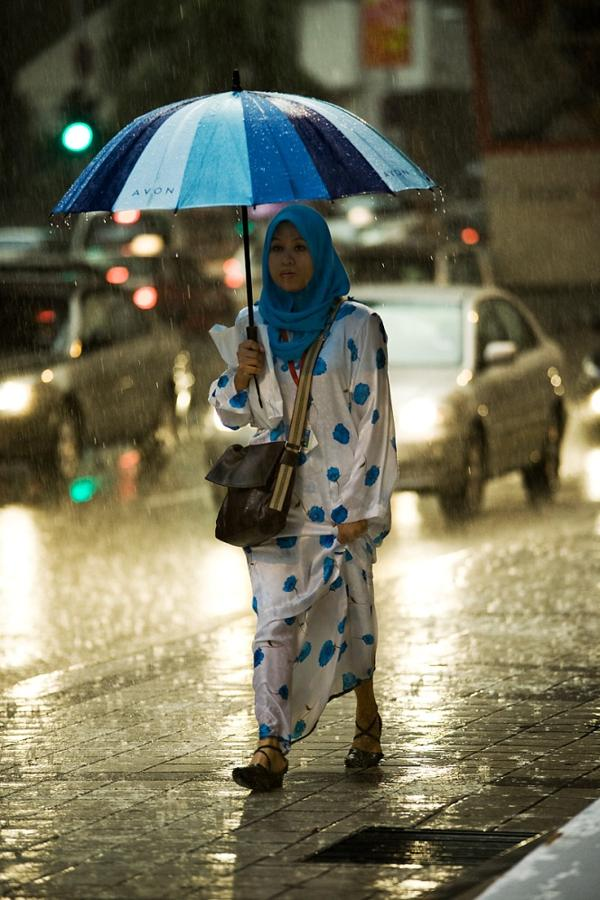person: (207, 207, 398, 789)
